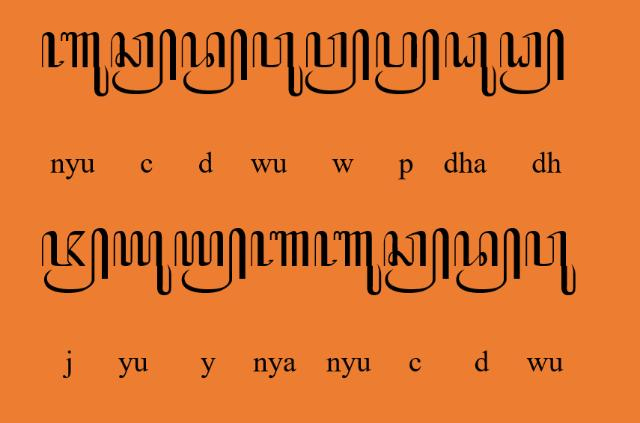-c: (384, 228, 451, 294), (111, 29, 177, 95)
-d: (182, 27, 248, 95), (454, 228, 520, 294)
-dh: (499, 28, 565, 96)
-j: (41, 228, 109, 294)
-p: (374, 28, 441, 96)
-w: (304, 28, 370, 96)
-y: (174, 228, 246, 294)
dhu: (444, 31, 498, 97)
ny1: (250, 229, 310, 268)
nyu1: (40, 30, 110, 98), (314, 230, 382, 296)
wu: (252, 30, 304, 98), (524, 230, 576, 298)
yu: (111, 231, 172, 297)
